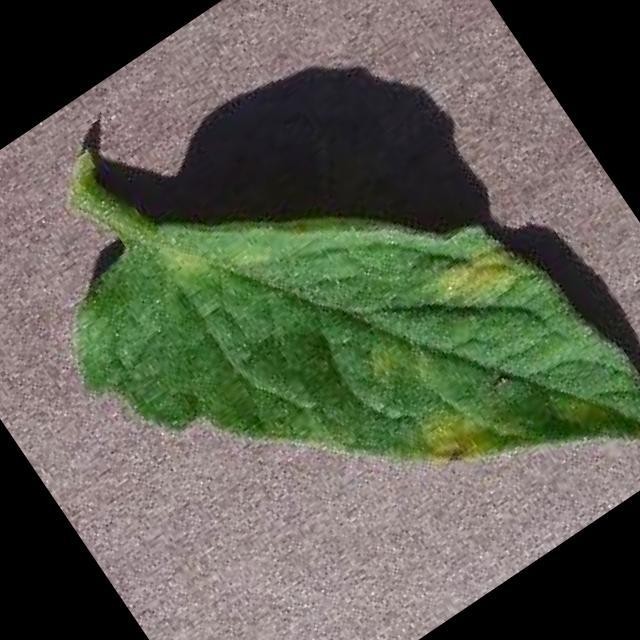Tomato mold leaf: (32, 43, 640, 640)
